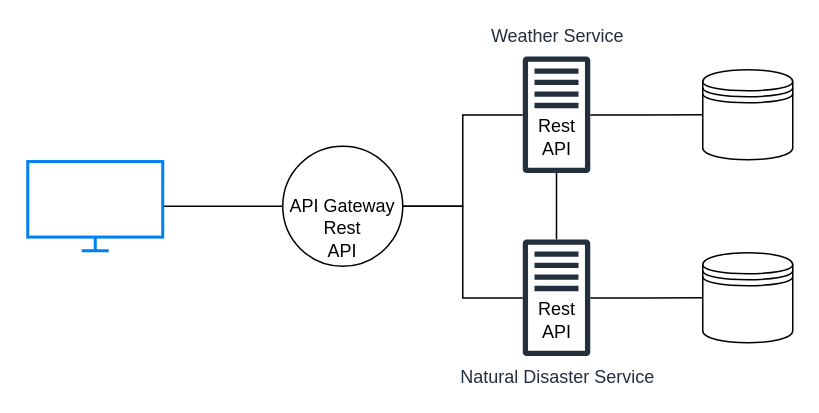
Image size: 819x413. Some labels were removed from this diagram. The centre of each missing label's shape, as x and y in pixels:
"Nat. Dis. DB" belongs at pixel 747 297.
"Weather DB" belongs at pixel 747 114.
